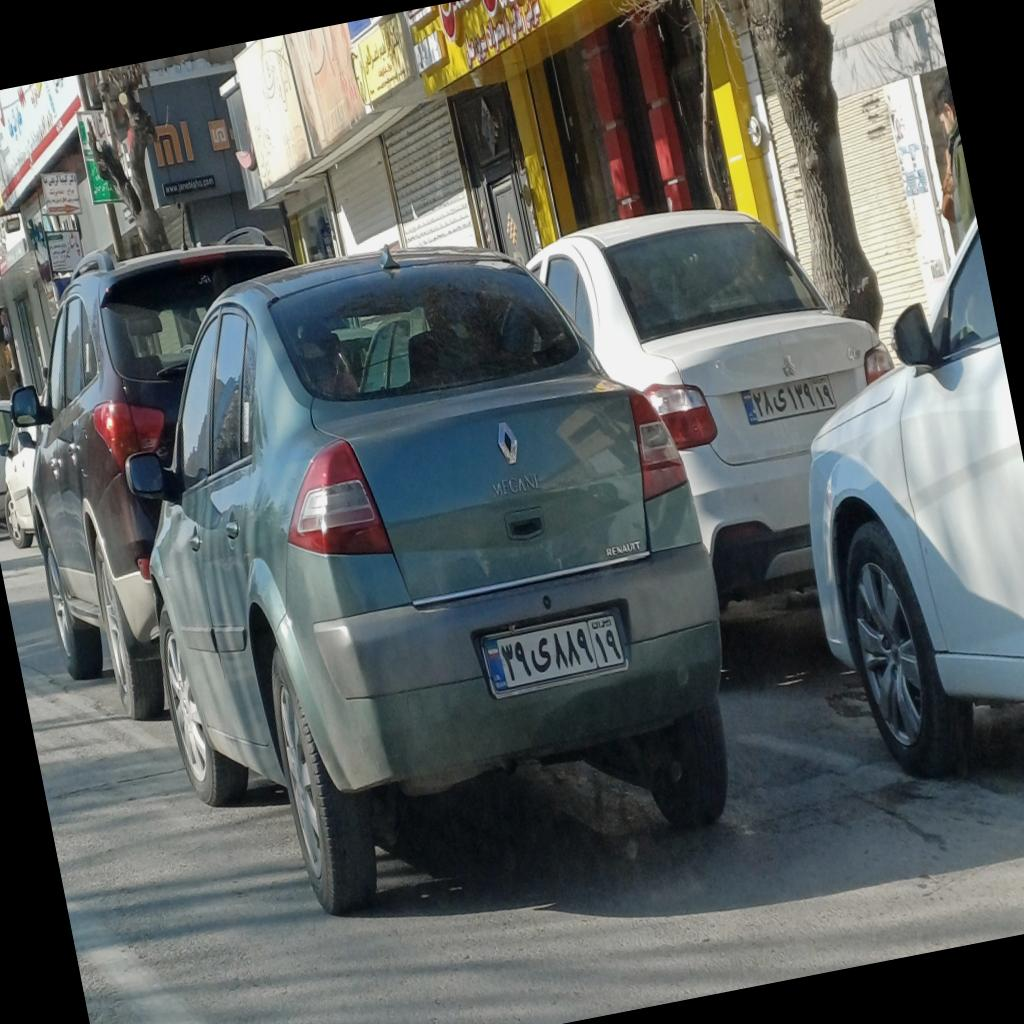Plates: (478, 608, 631, 699), (740, 373, 837, 426)
